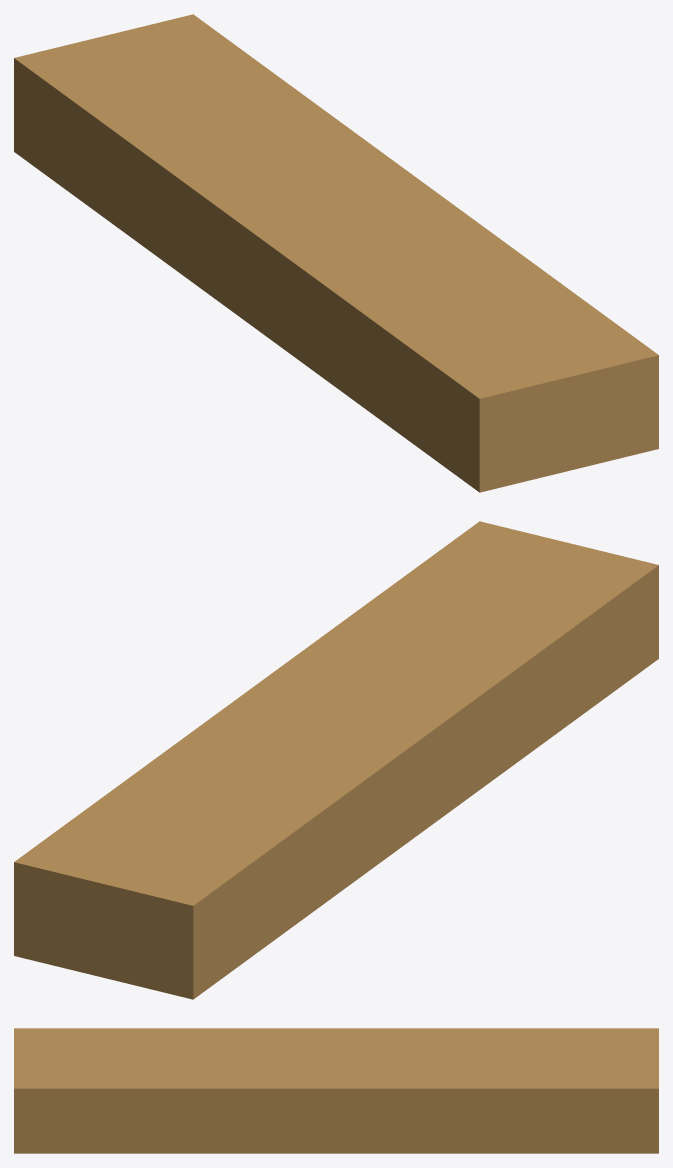
3 renders of one model, top to bottom at view 1: azimuth 30°, elevation 25°; view 2: azimuth 150°, elevation 25°; view 3: azimuth 270°, elevation 25°, orthographic. The views are drawn at different scales.
Parts seen in each view (by area): view 1: RUN-093-S00-NOG-07; view 2: RUN-093-S00-NOG-07; view 3: RUN-093-S00-NOG-07.
Part boxes in pixels (x1=…): RUN-093-S00-NOG-07: x1=14, y1=14, x2=658, y2=492; RUN-093-S00-NOG-07: x1=14, y1=521, x2=658, y2=999; RUN-093-S00-NOG-07: x1=14, y1=1028, x2=658, y2=1153.
Size of the model in its own units: 0.09 by 0.045 by 0.405.
